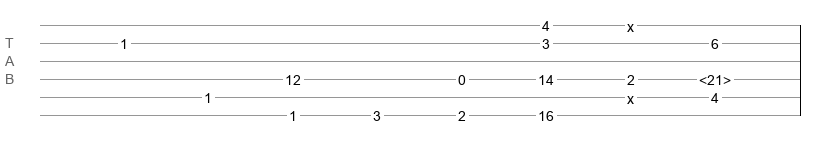0: (458, 72, 466, 82)
1: (120, 36, 128, 46), (204, 90, 212, 100), (289, 108, 297, 118)
12: (285, 72, 301, 82)
14: (538, 72, 554, 82)
16: (538, 108, 554, 118)
2: (458, 108, 466, 118), (627, 72, 635, 82)
3: (373, 108, 381, 118), (542, 36, 550, 46)
4: (542, 18, 550, 28), (711, 90, 719, 100)
6: (711, 36, 719, 46)
harmonic: (699, 72, 731, 82)
x: (627, 19, 634, 27), (627, 91, 634, 99)
